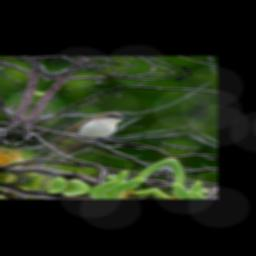Cuckoo: (14, 102, 131, 180)
